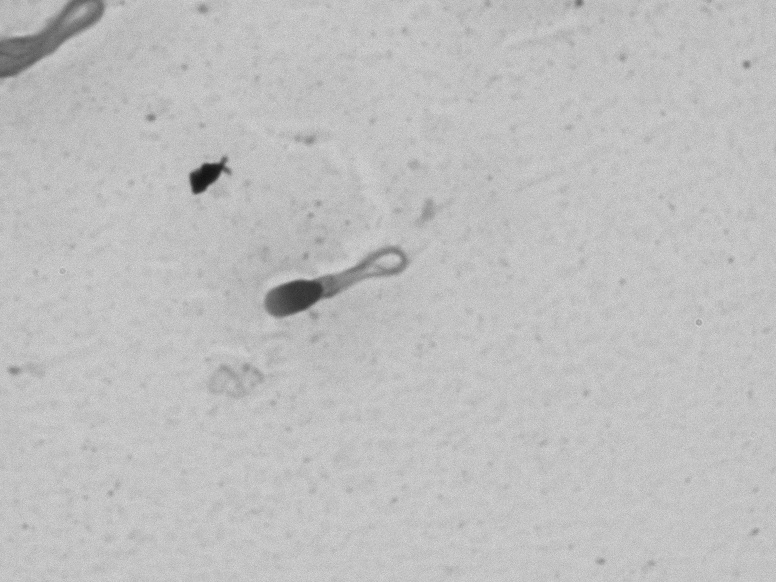Abnormal: (240, 229, 421, 344)
